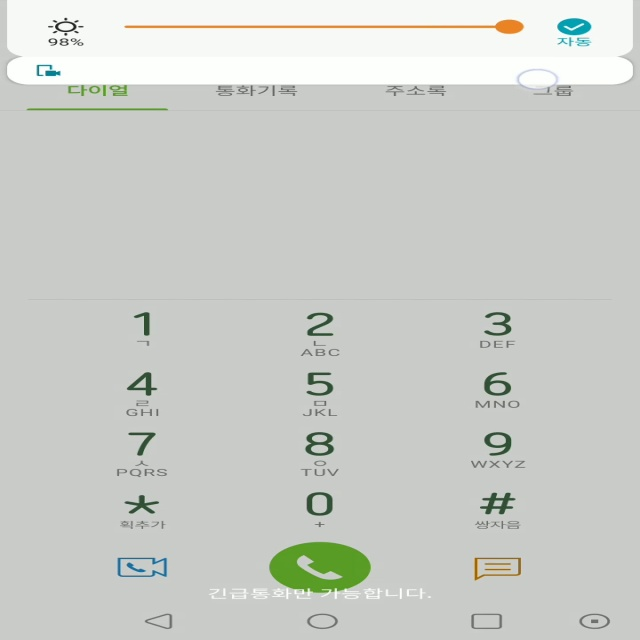Cursor: (516, 69, 560, 91)
